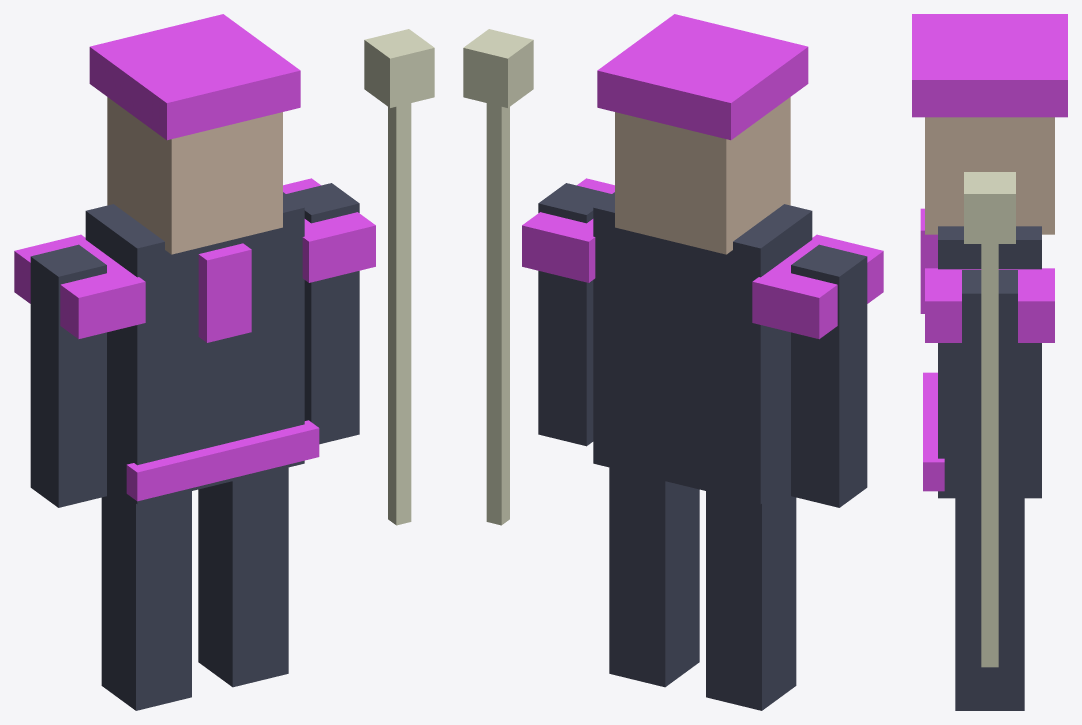
Rendered from 14_maelis_riftwalker_marshal_under_null.glb.
The picture shows the model from 3 angles, left to right: view 1: azimuth 30°, elevation 25°; view 2: azimuth 150°, elevation 25°; view 3: azimuth 270°, elevation 25°; orthographic projection.
Visible parts, largest first — view 1: Maelis Riftwalker, Marshal under Null; view 2: Maelis Riftwalker, Marshal under Null; view 3: Maelis Riftwalker, Marshal under Null.
Boxes of the visible parts, left/top/right/bottom form: Maelis Riftwalker, Marshal under Null: left=14, top=14, right=434, bottom=710; Maelis Riftwalker, Marshal under Null: left=463, top=14, right=883, bottom=710; Maelis Riftwalker, Marshal under Null: left=912, top=14, right=1067, bottom=710.
Size of the model in its own units: 1.06 by 1.66 by 0.3743.
